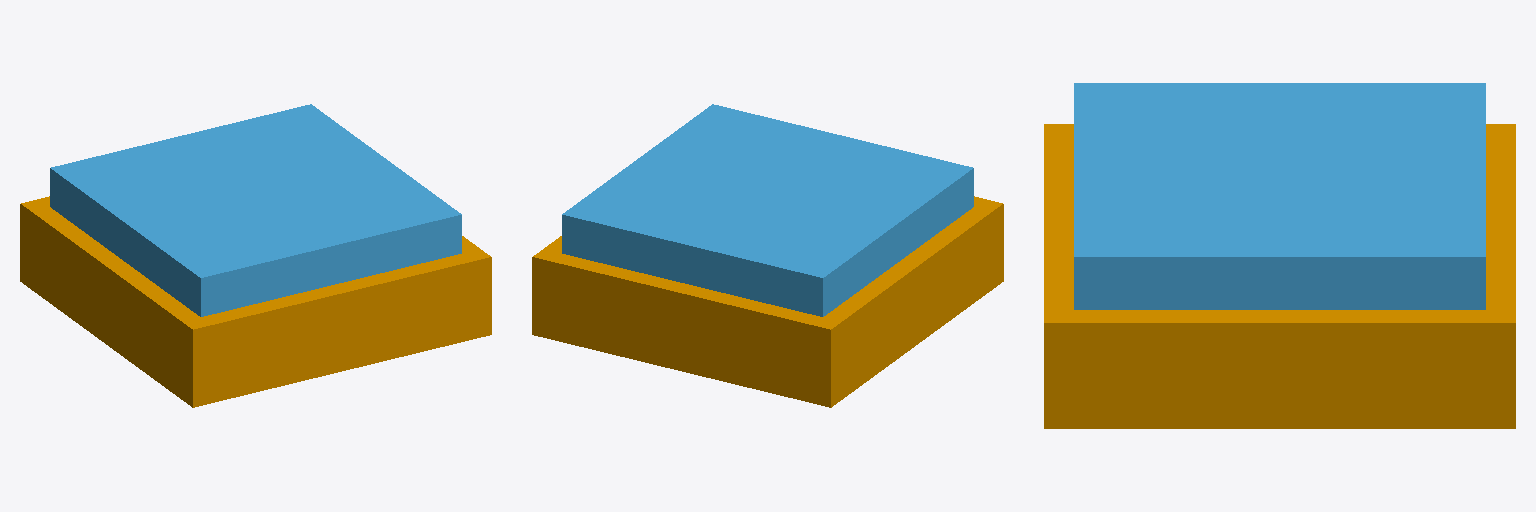
URDF robot description (multi_base):
<?xml version="1.0"?>
<!-- 検証用のベース。台(base_body)の上に回転する台座(turret)があり、台座の四隅に取り付け用の空のリンク port1〜port4 がある -->
<robot name="multi_base">
  <link name="base_body">
    <inertial><origin xyz="0 0 0"/><mass value="20"/><inertia ixx="1" ixy="0" ixz="0" iyy="1" iyz="0" izz="1"/></inertial>
    <visual><origin xyz="0 0 0.1"/><geometry><box size="0.8 0.8 0.2"/></geometry></visual>
    <collision><origin xyz="0 0 0.1"/><geometry><box size="0.8 0.8 0.2"/></geometry></collision>
  </link>
  <link name="turret">
    <inertial><origin xyz="0 0 0"/><mass value="10"/><inertia ixx="0.5" ixy="0" ixz="0" iyy="0.5" iyz="0" izz="0.5"/></inertial>
    <visual><origin xyz="0 0 0.05"/><geometry><box size="0.7 0.7 0.1"/></geometry></visual>
    <collision><origin xyz="0 0 0.05"/><geometry><box size="0.7 0.7 0.1"/></geometry></collision>
  </link>
  <joint name="turret_joint" type="revolute">
    <parent link="base_body"/><child link="turret"/><origin xyz="0 0 0.2"/>
    <axis xyz="0 0 1"/><limit lower="-1.5" upper="1.5" effort="500" velocity="1"/>
  </joint>
  <link name="port1"/>
  <link name="port2"/>
  <link name="port3"/>
  <link name="port4"/>
  <joint name="port1_joint" type="fixed"><parent link="turret"/><child link="port1"/><origin xyz="0.3 0.3 0.1"/></joint>
  <joint name="port2_joint" type="fixed"><parent link="turret"/><child link="port2"/><origin xyz="-0.3 0.3 0.1"/></joint>
  <joint name="port3_joint" type="fixed"><parent link="turret"/><child link="port3"/><origin xyz="-0.3 -0.3 0.1"/></joint>
  <joint name="port4_joint" type="fixed"><parent link="turret"/><child link="port4"/><origin xyz="0.3 -0.3 0.1"/></joint>
</robot>

--- What the picture shows (computed from the rendered views, not written in the file) ---
The picture shows the robot from 3 angles, left to right: view 1: azimuth 30°, elevation 25°; view 2: azimuth 150°, elevation 25°; view 3: azimuth 270°, elevation 25°; orthographic projection.
Model multi_base with 6 links and 5 joints (1 revolute, 4 fixed), rooted at base_body, posed all joints at 0.
Links seen in each view (by area): view 1: turret, base_body; view 2: turret, base_body; view 3: turret, base_body.
Link boxes in pixels (x1,y1,x2,y2): turret: [50, 104, 461, 316]; base_body: [20, 196, 491, 407]; turret: [562, 104, 973, 316]; base_body: [532, 196, 1003, 407]; turret: [1074, 83, 1485, 309]; base_body: [1044, 124, 1515, 428].
Bounding box of the posed robot: 0.8 × 0.8 × 0.3 m (x, y, z).
Geometry: primitives only (box / cylinder / sphere), no mesh files.
